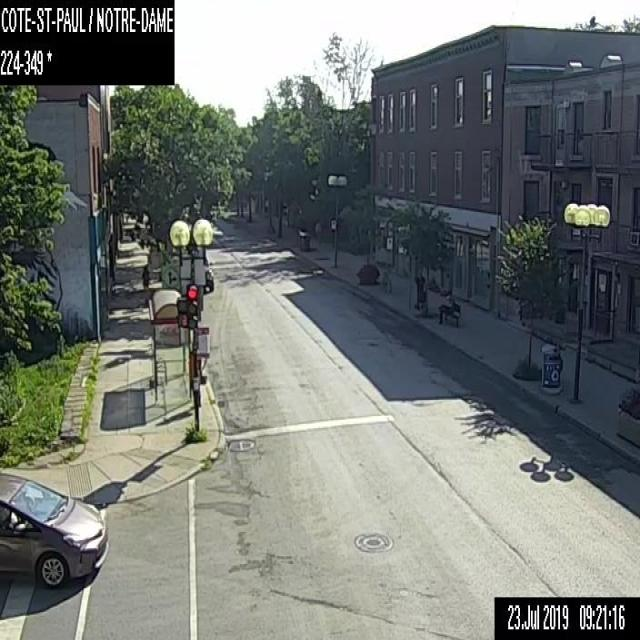pedestrian: (437, 289, 453, 324), (414, 267, 425, 310), (141, 262, 149, 304)
vehicle: (0, 472, 110, 591), (192, 256, 214, 292)
